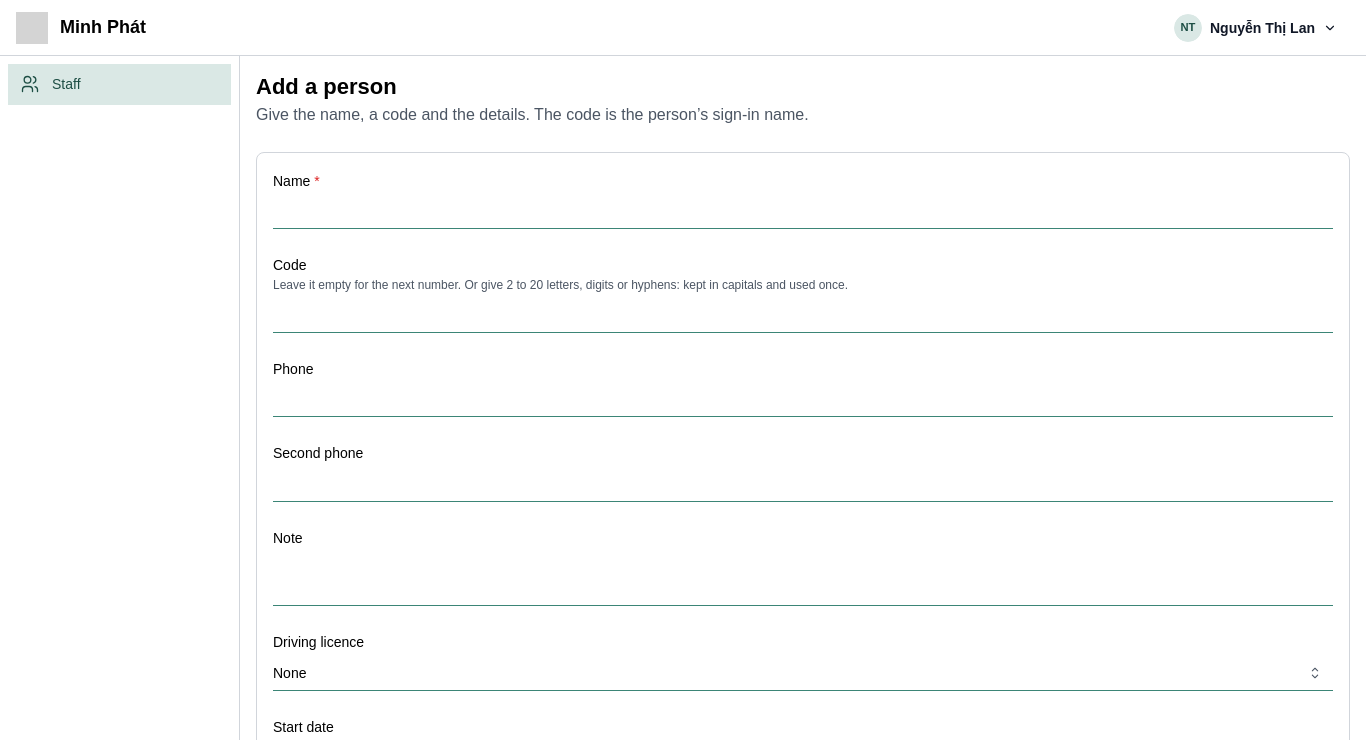
a person added › Someone allowed to add people adds one with a name, a code, a phone and a note, without a department, a position or a sign-in, which the root gives; the person’
This screenshot has width=1366, height=740.
Step 1. Type "Mai Linh" into the field labelled "Name *" → (803, 211), box [273, 193, 1333, 229]
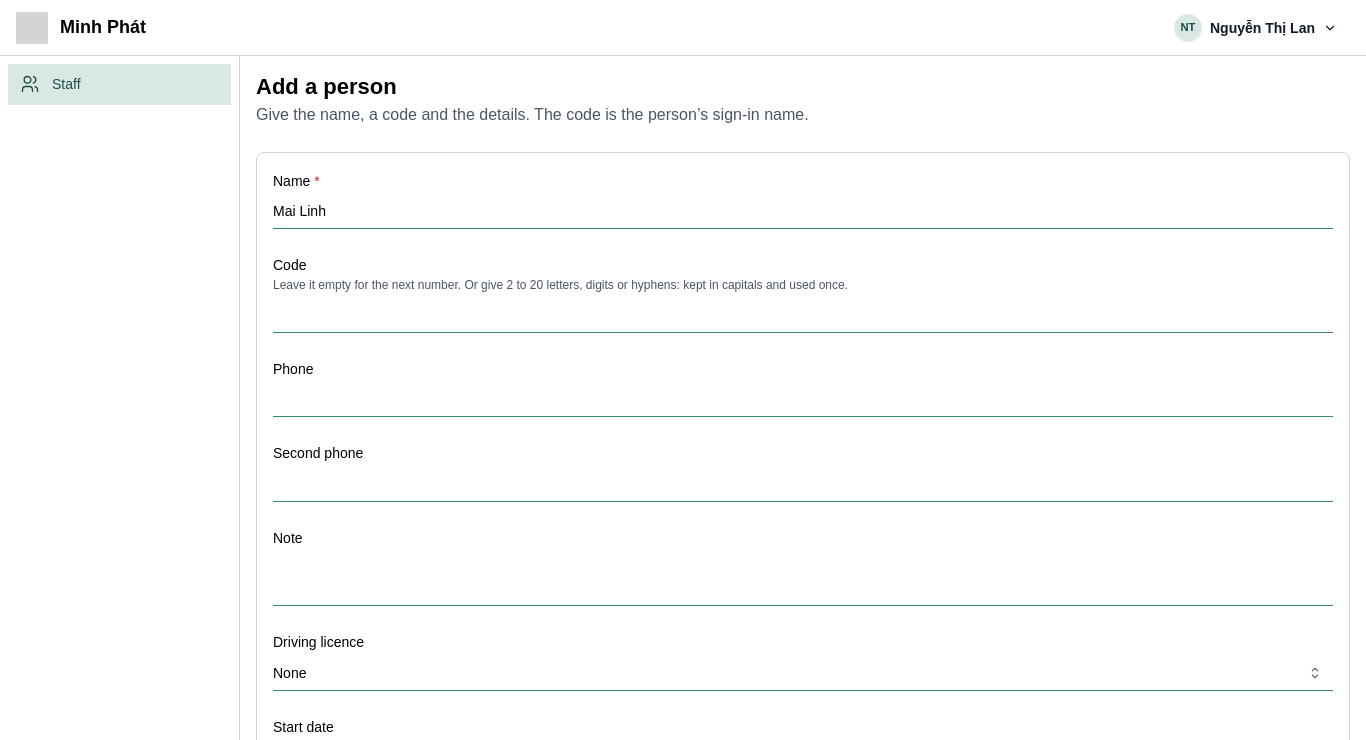
Step 2. Type "emp-0100" into the field labelled "Code" → (803, 315), box [273, 297, 1333, 333]
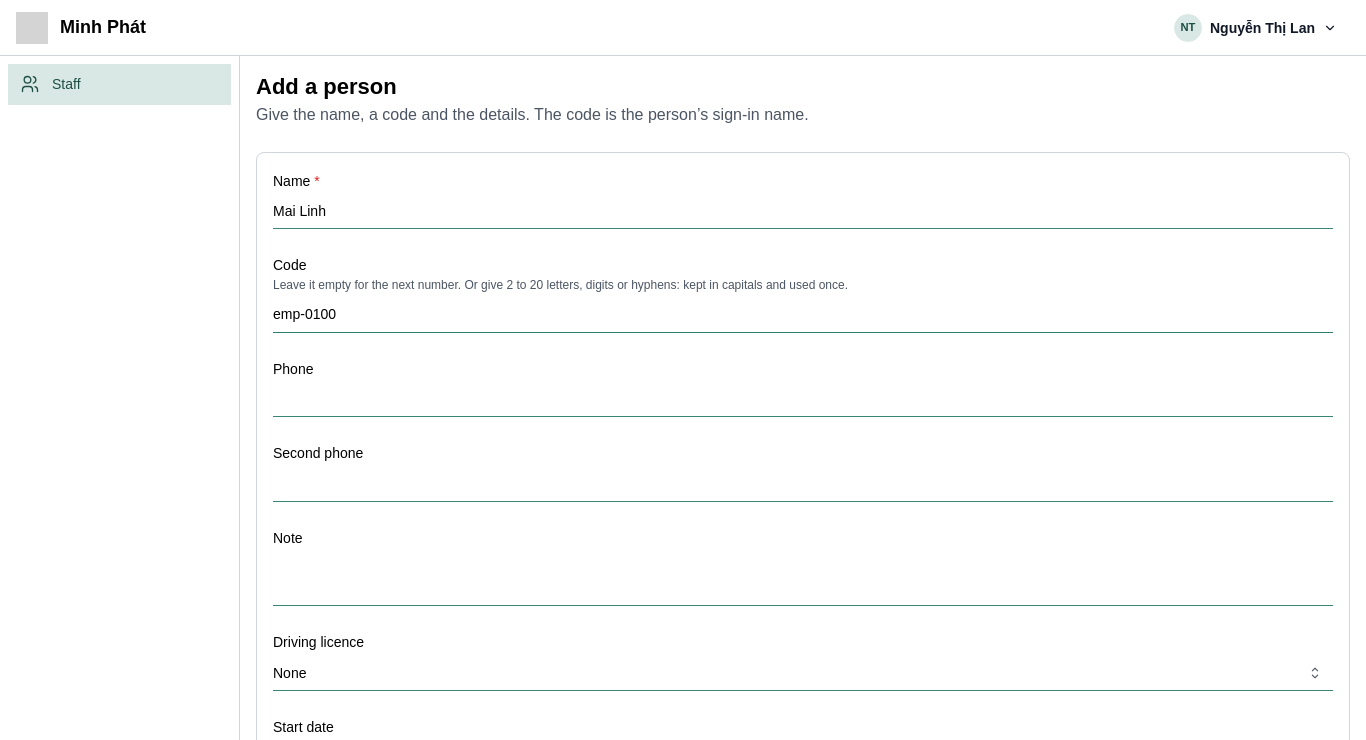
Step 3. Type "0909" into the field labelled "Phone" → (803, 399), box [273, 381, 1333, 417]
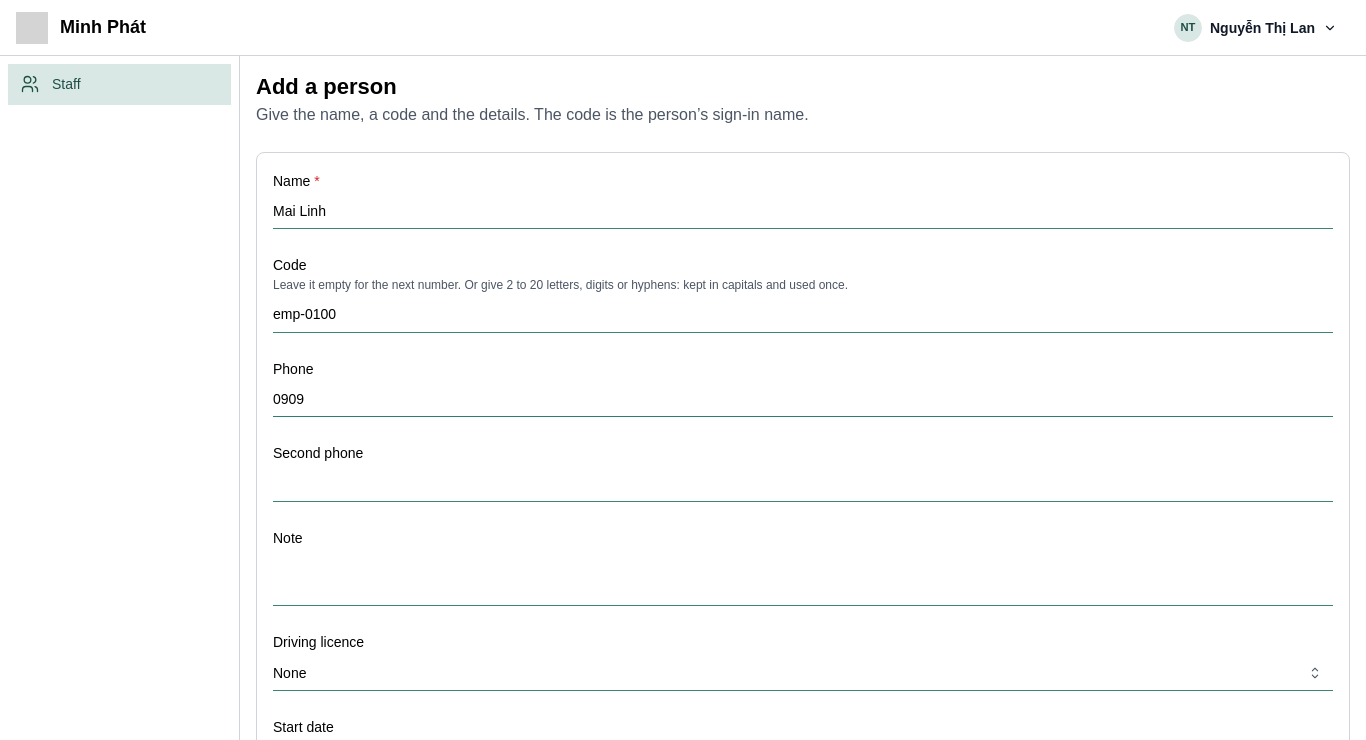
Step 4. Type "Mới vào" into the text box labelled "Note" → (803, 579), box [273, 551, 1333, 606]
(page scrolled)
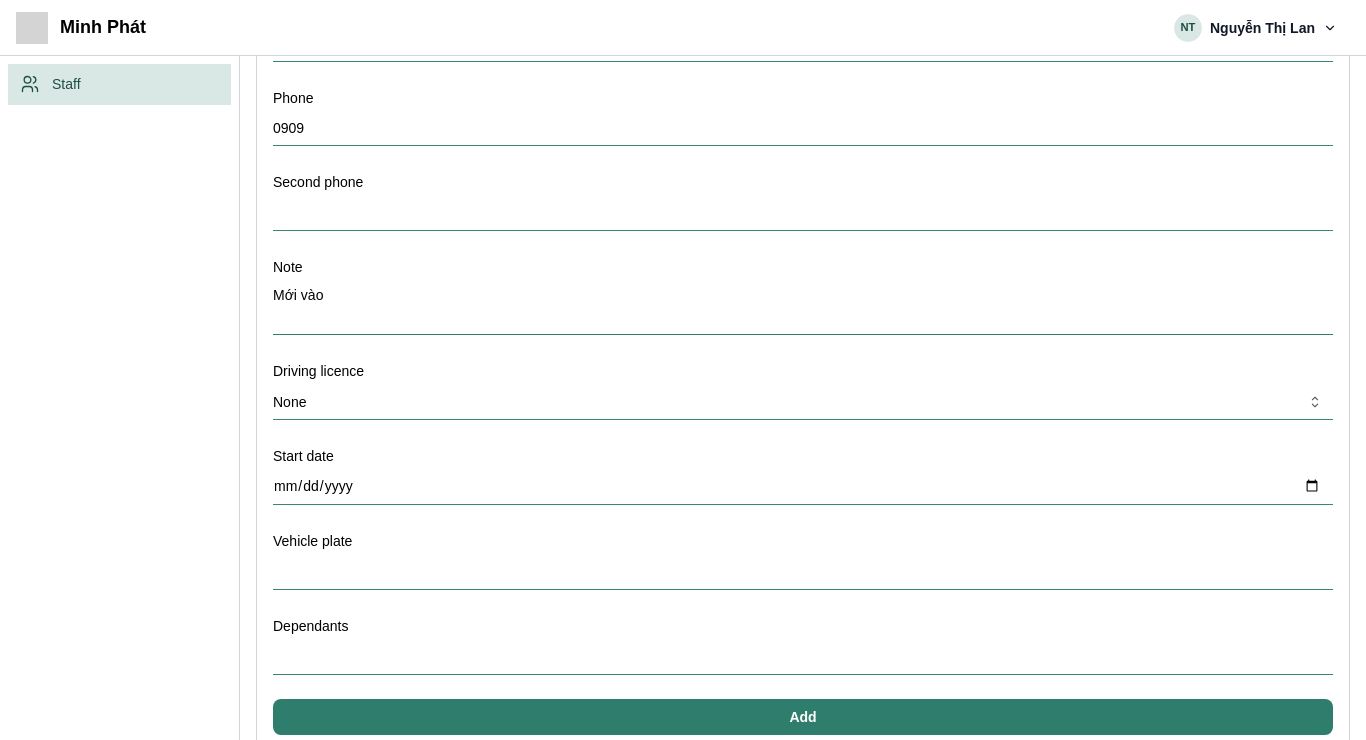
Expected: the field labelled "Position" is not shown
Step 5. Click the button "Add" → (803, 716), box [273, 698, 1333, 734]
(page scrolled)
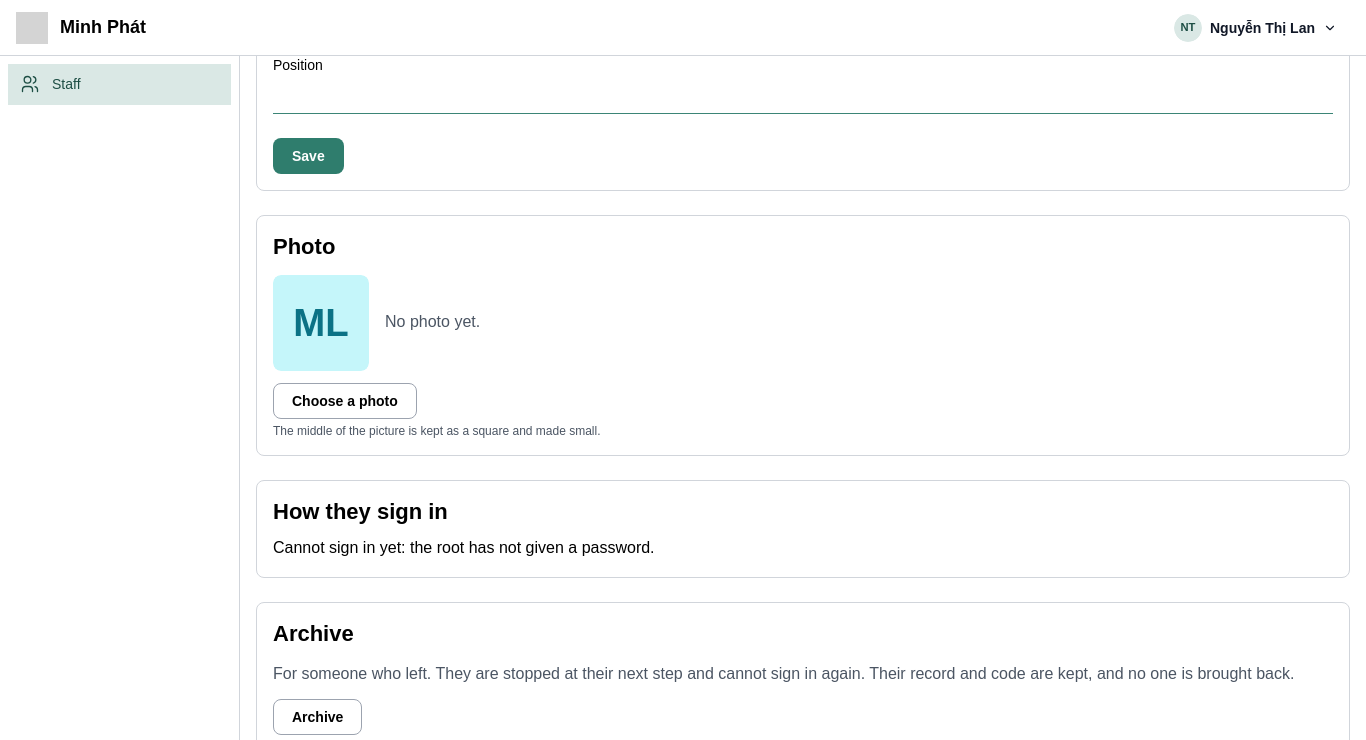
Now the text "Cannot sign in yet: the root has not given a password." is shown, box [273, 539, 655, 556]
